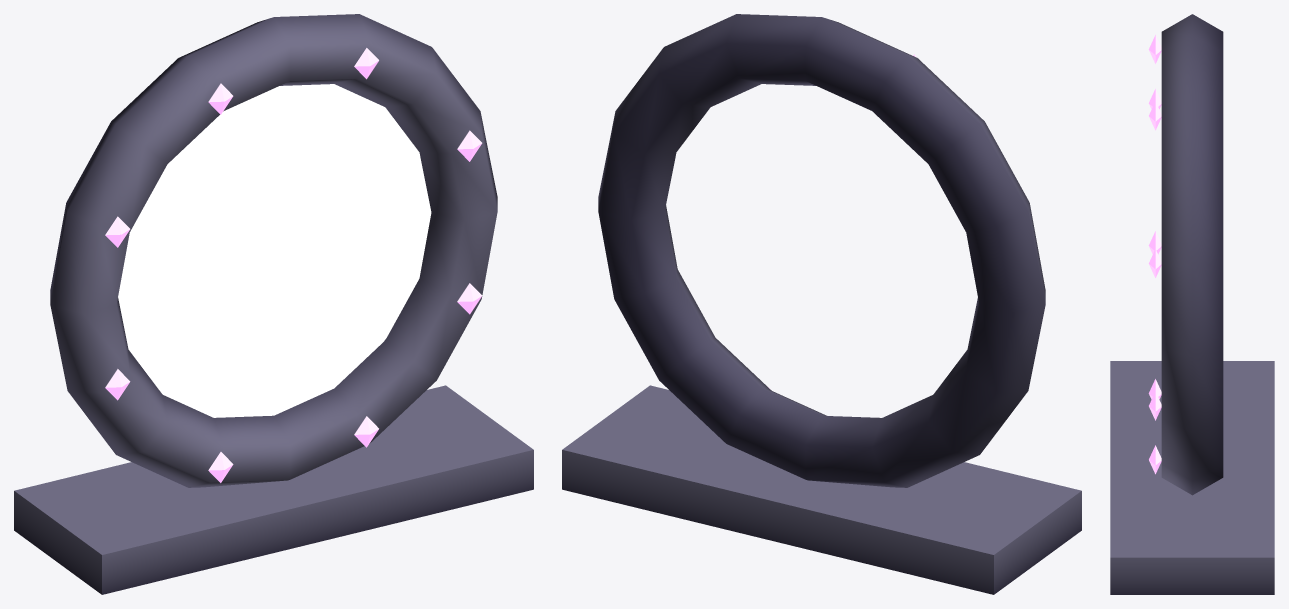
The model's file is portal_ring_violet.glb.
3 renders of one model, left to right at view 1: azimuth 30°, elevation 25°; view 2: azimuth 150°, elevation 25°; view 3: azimuth 270°, elevation 25°, orthographic. The views are drawn at different scales.
Parts seen in each view (by area): view 1: portal_ring_violet; view 2: portal_ring_violet; view 3: portal_ring_violet.
Part boxes in pixels (<box>): portal_ring_violet: <box>14,14,533,594</box>; portal_ring_violet: <box>562,14,1081,594</box>; portal_ring_violet: <box>1110,14,1274,594</box>.
Bounding box in the file's own units: 3.52 × 3.71 × 1.2.
